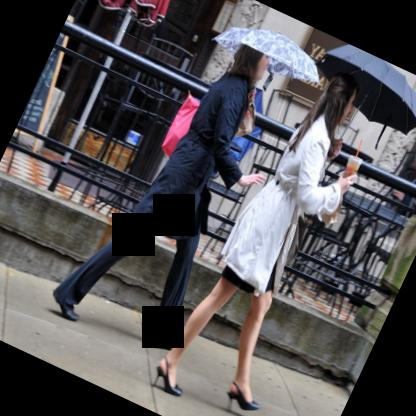handbag: (161, 88, 201, 159)
